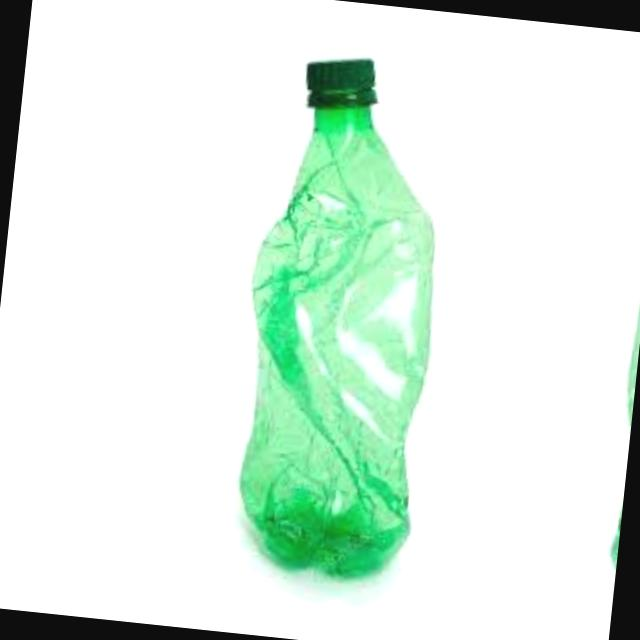Plastic: (204, 37, 518, 598), (543, 72, 640, 613)
